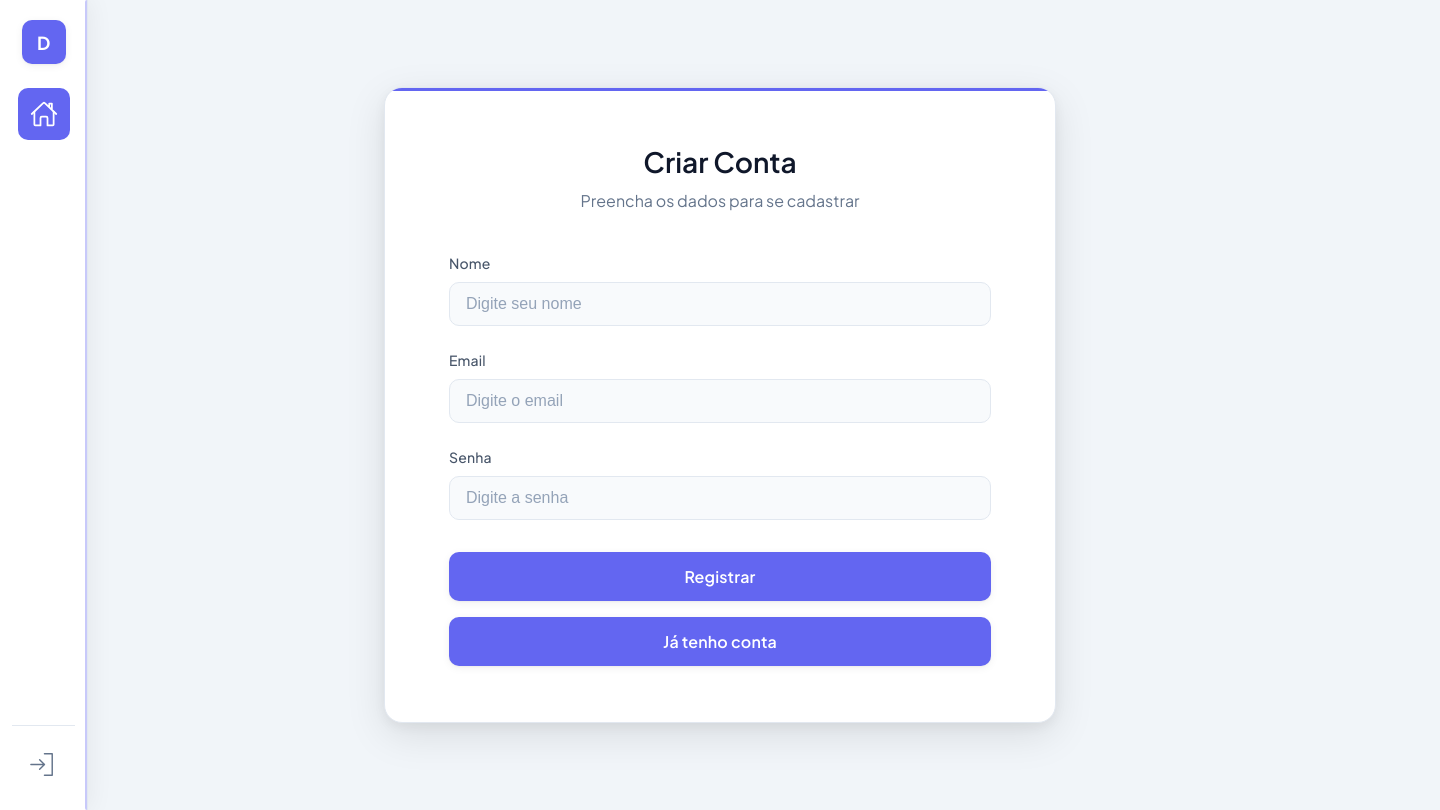
it: Register Page › should not redirect to the home page after a unsuccessful register
The image size is (1440, 810).
Type "gui@gmail.com" into the field with placeholder "Digite o email" at x=720, y=401, box [449,379,991,423]
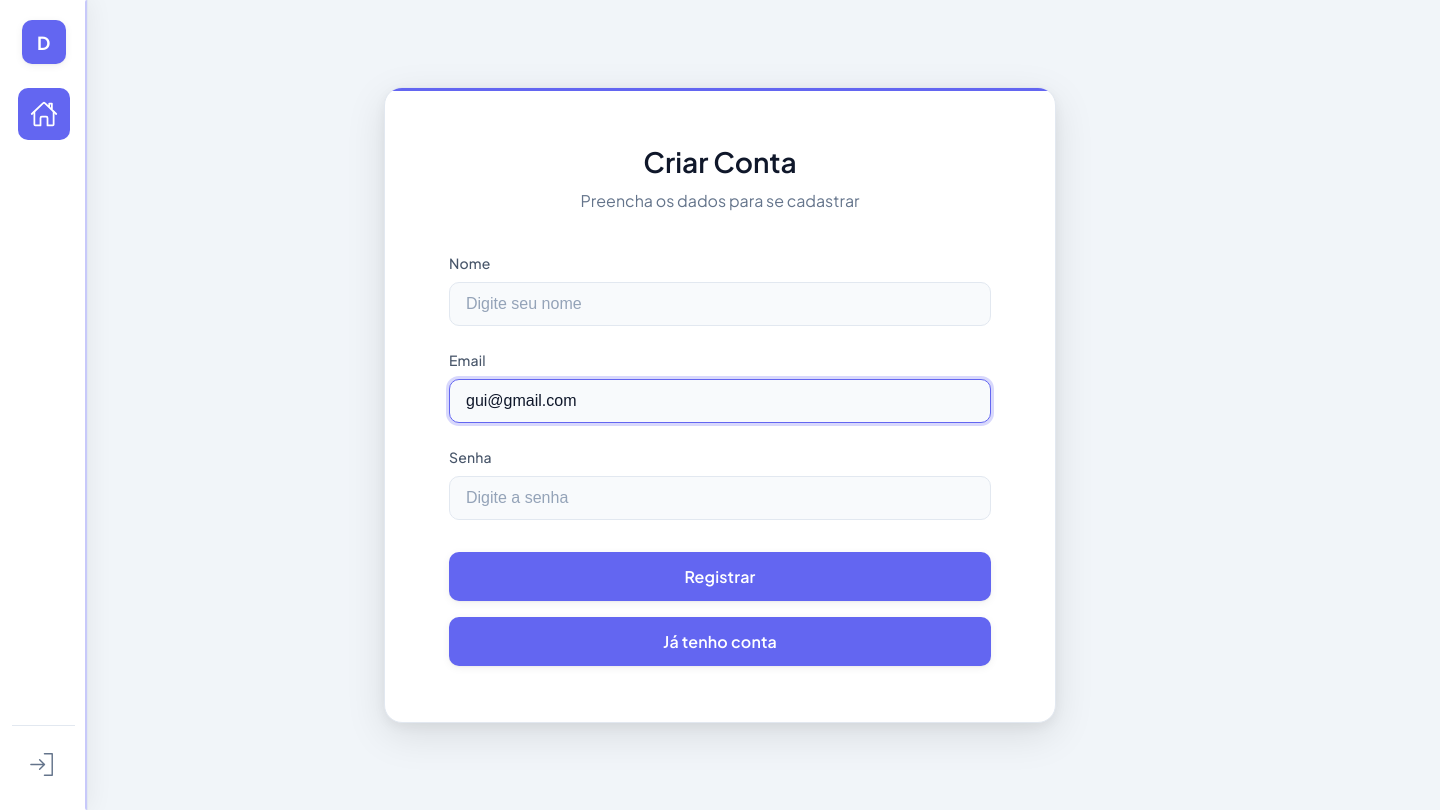
Type "123456" into the password field with placeholder "Digite a senha" at x=720, y=498, box [449,476,991,520]
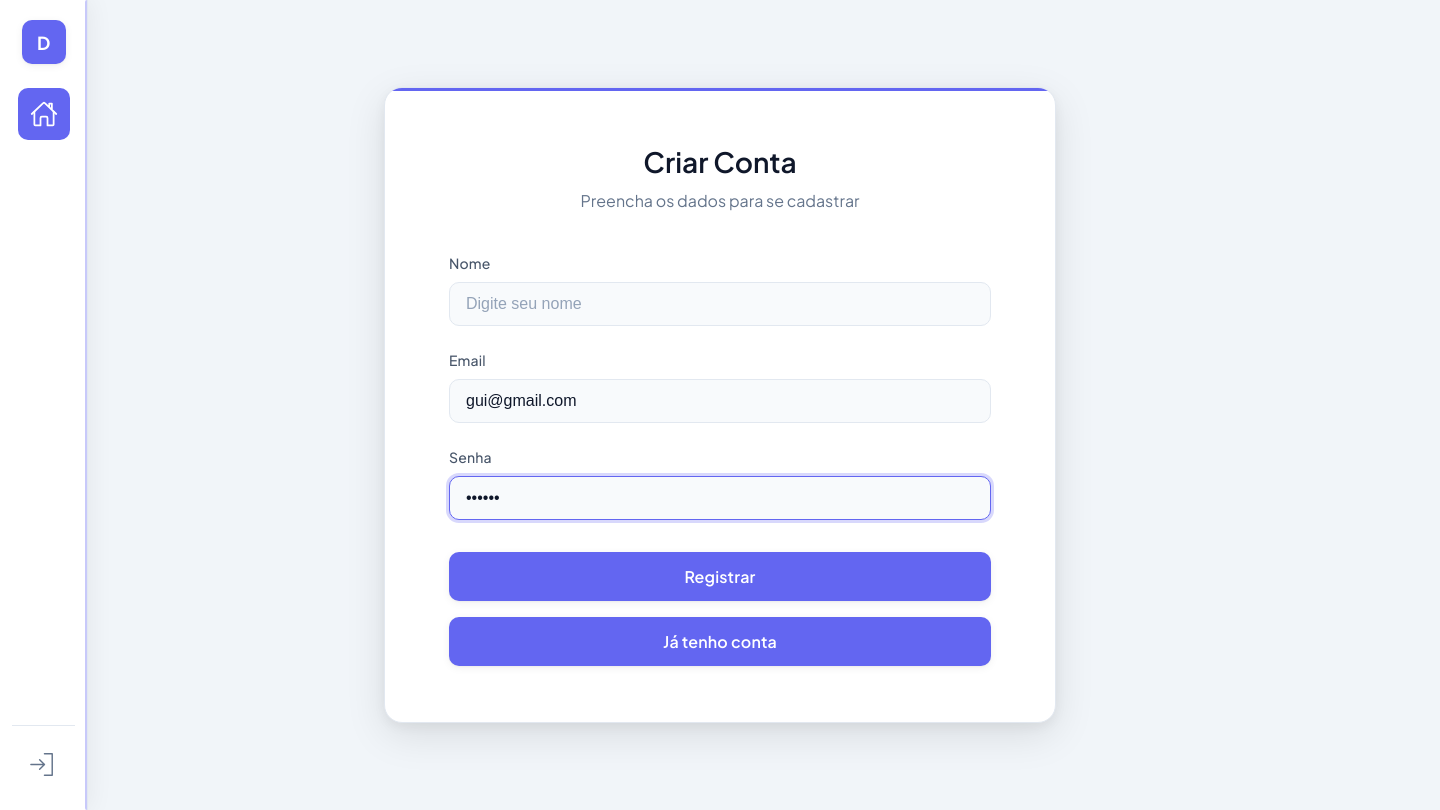
Type "guilherme" into the field with placeholder "Digite seu nome" at x=720, y=304, box [449,282,991,326]
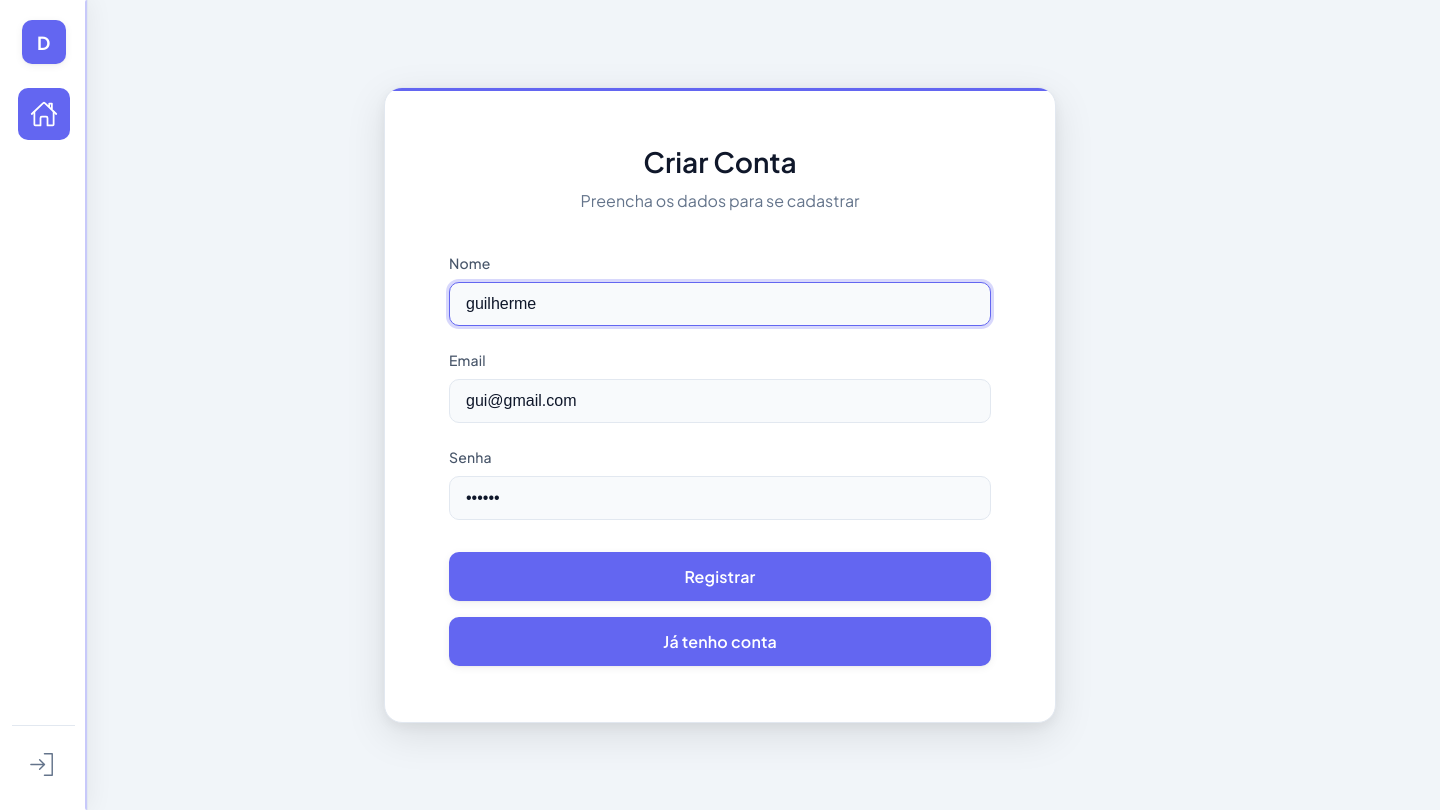
Click the button "Registrar" at x=720, y=576, box [449,552,991,601]
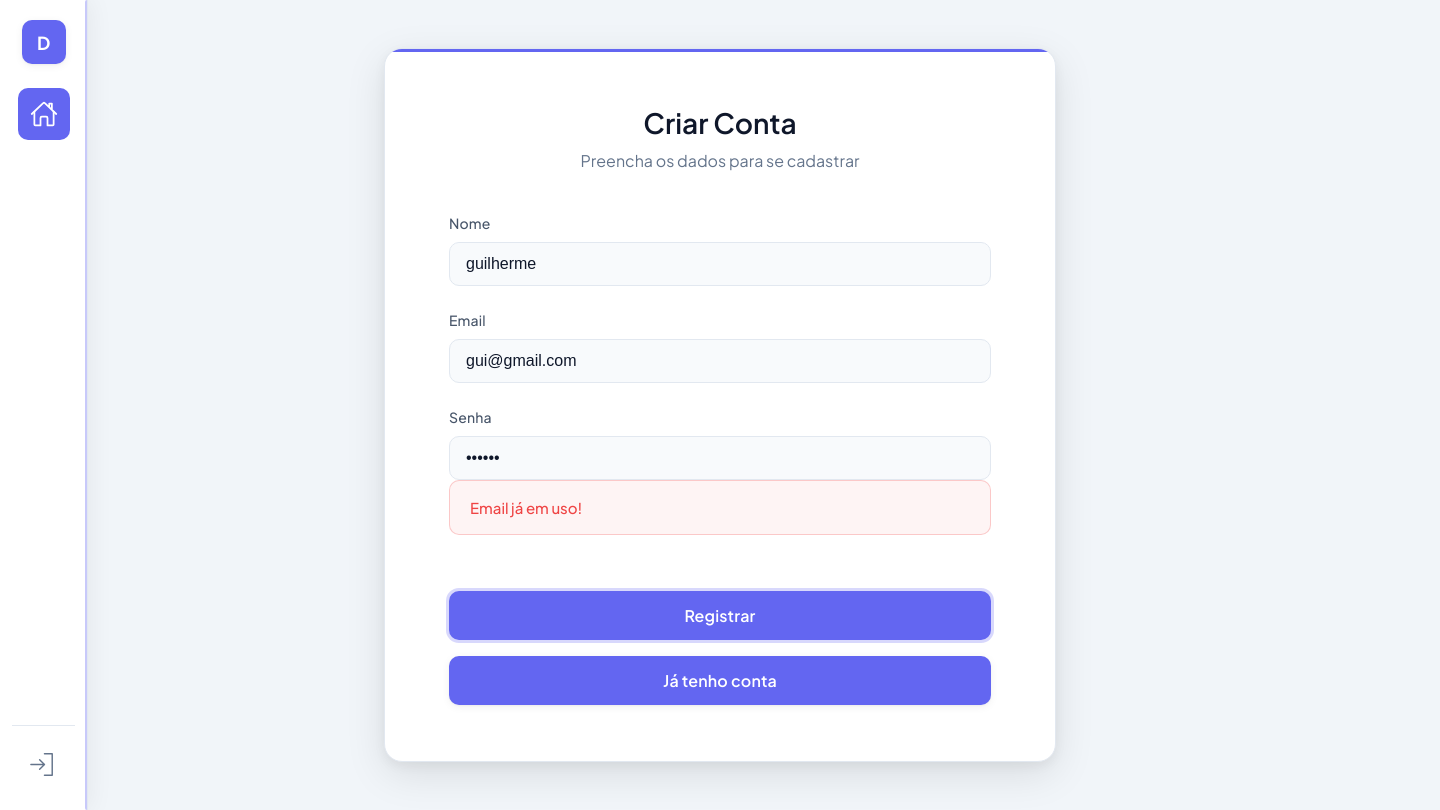
Check: the text "Email já em uso!" is shown, box [449,480,991,535]
